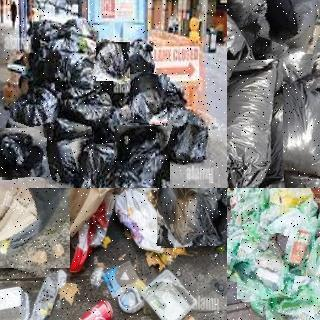Garbage: (227, 59, 283, 188), (0, 188, 79, 272), (263, 80, 320, 178), (155, 188, 227, 247), (235, 234, 291, 301), (255, 206, 316, 267), (248, 0, 320, 49), (115, 126, 170, 188), (162, 108, 219, 166), (41, 133, 100, 183), (11, 82, 62, 136), (264, 272, 320, 320), (227, 0, 278, 50), (0, 126, 48, 178), (73, 143, 124, 188), (128, 73, 169, 124), (227, 221, 258, 282), (94, 40, 132, 83), (127, 34, 156, 77), (298, 234, 320, 289)
